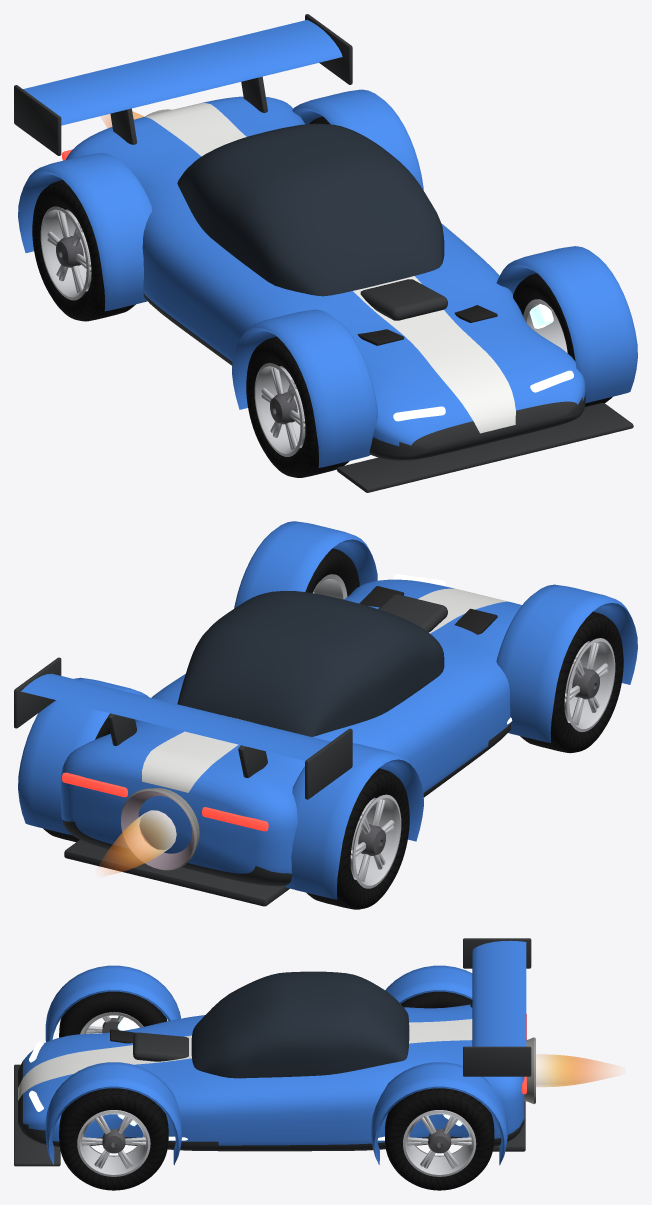
Rendered from rocket-car-blue.glb.
The picture shows the model from 3 angles, top to bottom: view 1: azimuth 30°, elevation 25°; view 2: azimuth 150°, elevation 25°; view 3: azimuth 270°, elevation 25°; orthographic projection. The views are drawn at different scales.
Parts seen in each view (by area): view 1: chassis, wheel_rear_right, wheel_front_right, wheel_front_left; view 2: chassis, wheel_rear_right, wheel_front_right, booster_flame, booster_nozzle, wheel_front_left; view 3: chassis, wheel_front_left, wheel_rear_left, wheel_front_right, booster_flame, wheel_rear_right, booster_nozzle.
Boxes of the visible parts, x1=… form: chassis: x1=14, y1=14, x2=637, y2=492; wheel_rear_right: x1=32, y1=180, x2=135, y2=321; wheel_front_right: x1=246, y1=336, x2=349, y2=477; wheel_front_left: x1=513, y1=273, x2=612, y2=406; chassis: x1=14, y1=521, x2=637, y2=906; wheel_rear_right: x1=306, y1=768, x2=409, y2=909; wheel_front_right: x1=520, y1=611, x2=623, y2=753; booster_flame: x1=100, y1=810, x2=176, y2=874; booster_nozzle: x1=121, y1=788, x2=199, y2=870; wheel_front_left: x1=305, y1=548, x2=359, y2=599; chassis: x1=14, y1=938, x2=531, y2=1166; wheel_front_left: x1=59, y1=1088, x2=168, y2=1190; wheel_rear_left: x1=385, y1=1088, x2=494, y2=1190; wheel_front_right: x1=59, y1=991, x2=167, y2=1037; booster_flame: x1=536, y1=1054, x2=614, y2=1087; wheel_rear_right: x1=401, y1=991, x2=471, y2=1008; booster_nozzle: x1=524, y1=1037, x2=535, y2=1103.
Size of the model in its own units: 2.07 by 1.18 by 4.56.
Materials: 15 (2 with a texture image).
